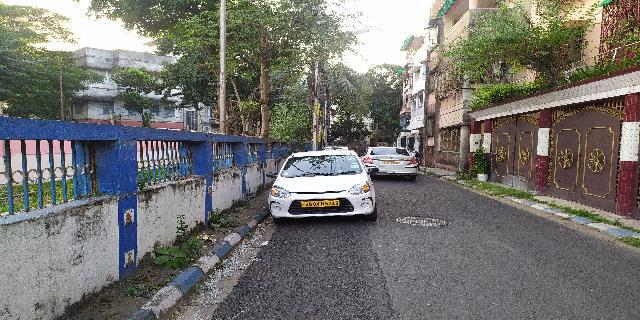Car: (265, 149, 379, 225), (361, 143, 423, 184)
